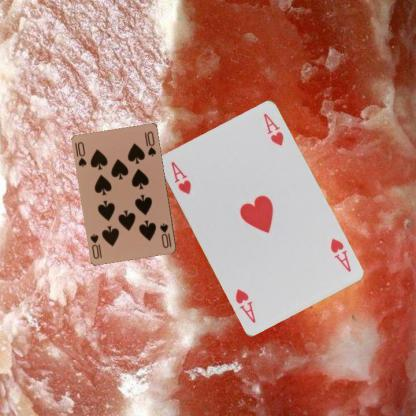10s: (157, 220, 173, 250), (75, 139, 88, 168)
Ah: (327, 236, 352, 273), (168, 159, 192, 196)
